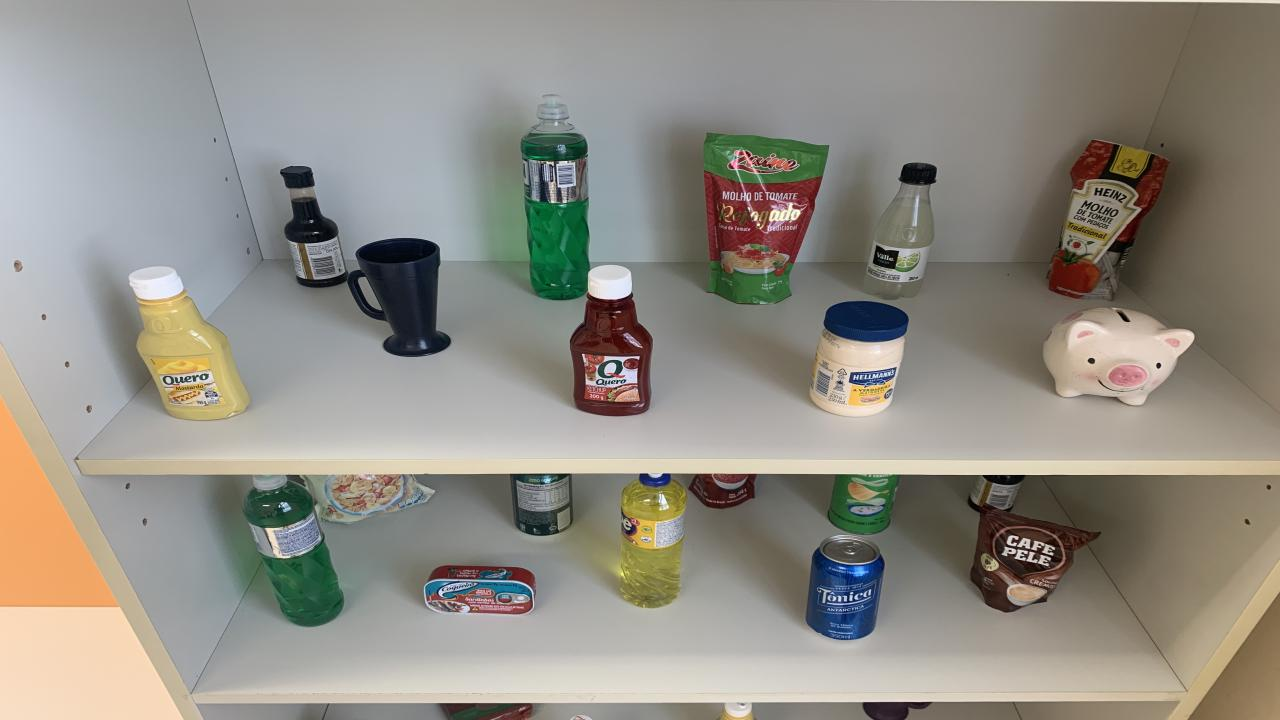Coffee-Pantry_Items: (970, 504, 1100, 611)
Detergent-Cleanup_Items: (242, 474, 342, 626), (520, 94, 590, 300), (620, 474, 688, 608)
English_Sauce-Pantry_Items: (282, 167, 348, 287), (968, 474, 1025, 512)
Flakes-Snacks: (302, 474, 435, 523)
Guarana_Can-Drinks: (510, 474, 572, 536)
Ketchup-Pantry_Items: (570, 264, 652, 416)
Mayonnaise-Pantry_Items: (810, 302, 908, 416)
Mustard-Pantry_Items: (130, 266, 250, 420)
Pig_Safe-Miscellaneous: (1042, 308, 1195, 405)
Pringles-Snacks: (828, 474, 900, 534)
Soda-Drinks: (862, 163, 938, 300)
Tomato_Sauce-Pantry_Items: (705, 133, 830, 304), (1048, 141, 1170, 300), (688, 474, 755, 508)
Tonic-Drinks: (805, 534, 885, 639)
Tuna_Can-Pantry_Items: (425, 566, 535, 615)
